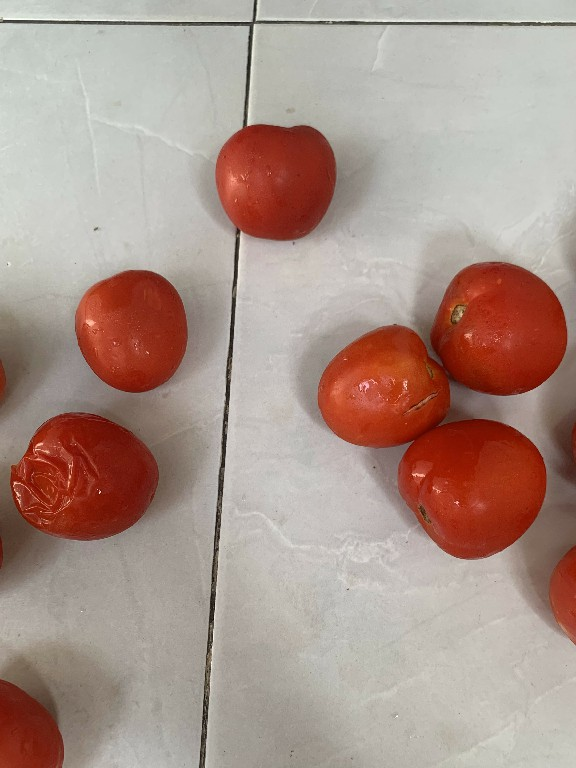NG: (6, 409, 166, 541)
OK: (394, 414, 556, 561), (430, 253, 568, 402), (208, 116, 342, 252), (312, 318, 446, 450), (67, 266, 192, 397)
